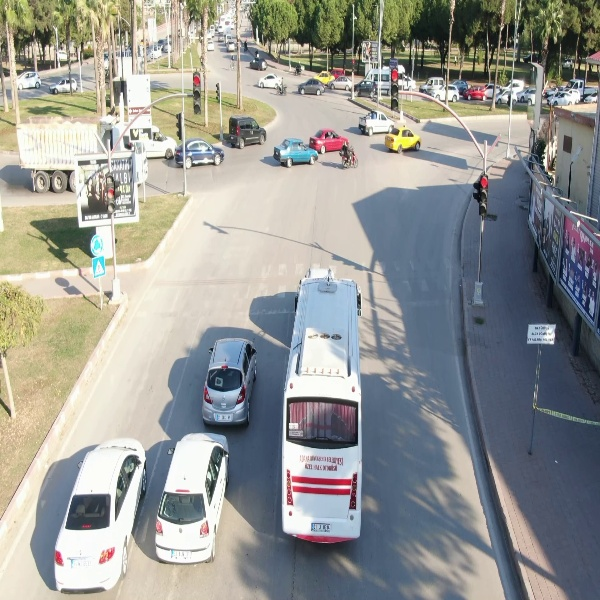car: (48, 435, 149, 596), (153, 431, 232, 565), (199, 334, 260, 430), (173, 135, 225, 169), (273, 137, 320, 168), (227, 114, 267, 148), (384, 124, 420, 156), (548, 87, 579, 108), (433, 82, 462, 104), (47, 77, 79, 96), (296, 77, 326, 96), (17, 70, 43, 91), (351, 78, 379, 96), (463, 84, 489, 101), (328, 75, 353, 91), (249, 55, 270, 72)
